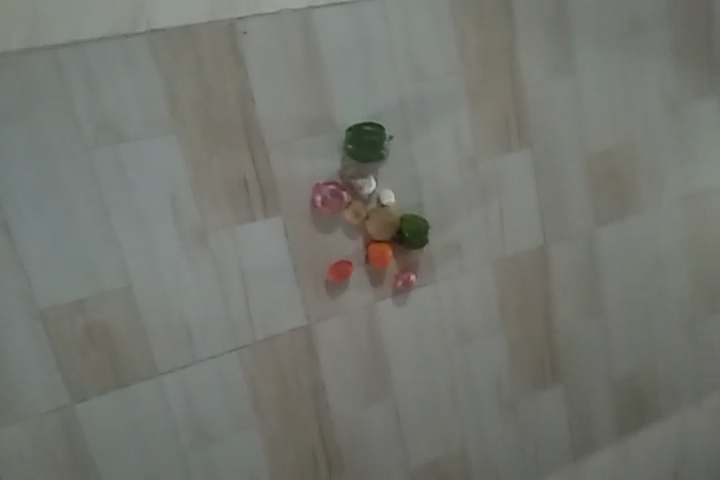capsicum: (342, 121, 388, 162), (397, 209, 429, 249)
garlic: (358, 174, 375, 201), (381, 187, 399, 205)
onion: (314, 182, 351, 213), (396, 271, 420, 293)
potato: (364, 207, 395, 239), (344, 204, 362, 228)
tomato: (328, 260, 356, 287), (370, 242, 394, 265)
